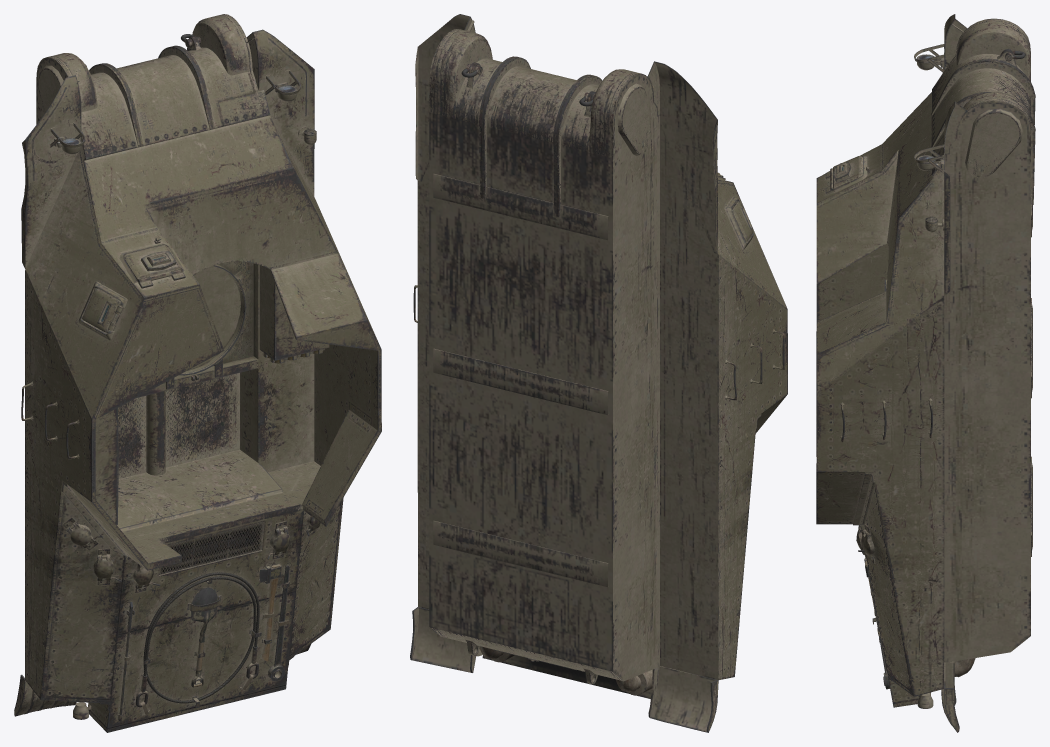
The model's file is Hull.glb.
The picture shows the model from 3 angles, left to right: view 1: azimuth 30°, elevation 25°; view 2: azimuth 150°, elevation 25°; view 3: azimuth 270°, elevation 25°; orthographic projection. The views are drawn at different scales.
Parts seen in each view (by area): view 1: set_0_group_0; view 2: set_0_group_0; view 3: set_0_group_0.
Boxes of the visible parts, x1,y1,x2,y2 form: set_0_group_0: (14,14,381,732); set_0_group_0: (410,14,787,732); set_0_group_0: (816,14,1035,732).
Size of the model in its own units: 2.9 by 5.62 by 1.84.
Materials: 1 (1 with a texture image).
